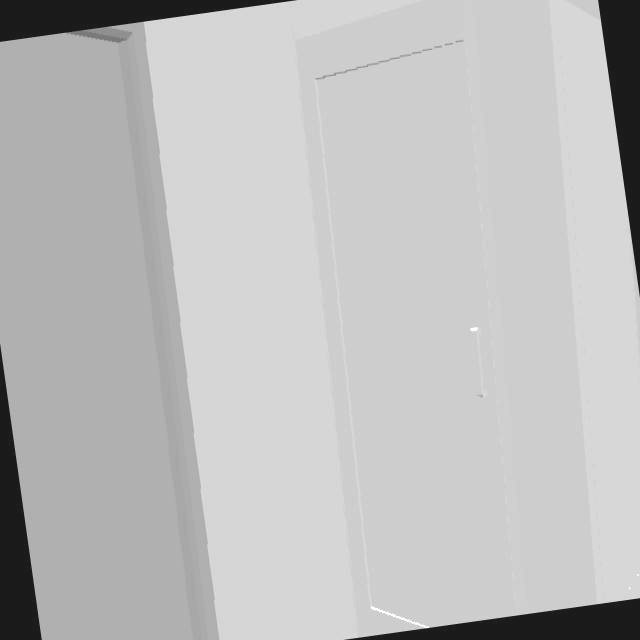shower: (295, 0, 640, 638)
